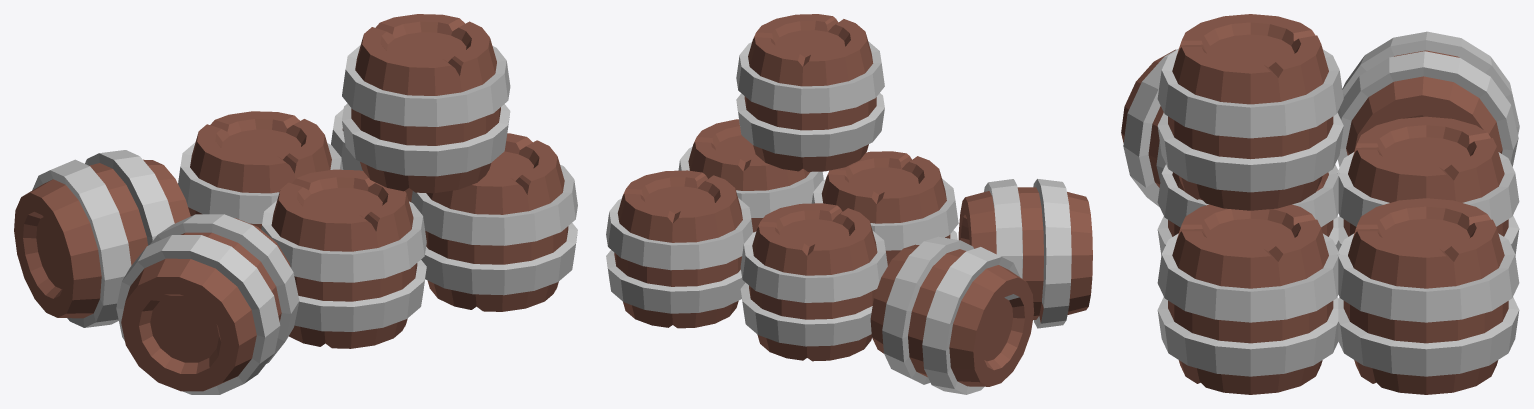
File: Barrels.fbx
3 views of the same model, side by side, from view 1: azimuth 30°, elevation 25°; view 2: azimuth 150°, elevation 25°; view 3: azimuth 270°, elevation 25° (orthographic). The views are drawn at different scales.
Visible parts, largest first — view 1: Cylinder; view 2: Cylinder; view 3: Cylinder.
Boxes of the visible parts, bbox=[...] form: Cylinder: bbox=[14, 14, 577, 394]; Cylinder: bbox=[606, 14, 1092, 394]; Cylinder: bbox=[1121, 14, 1519, 394].
Size of the model in its own units: 813 by 472 by 565.
